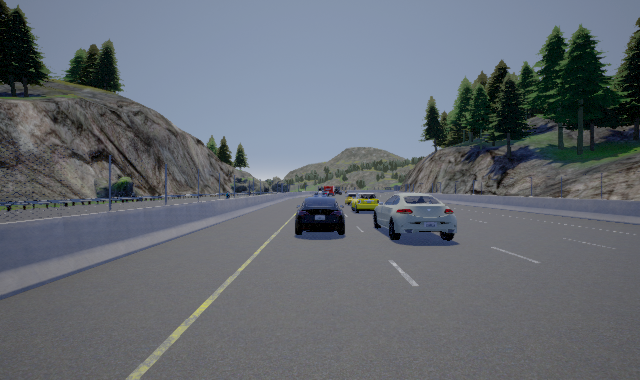vehicle: (374, 193, 457, 247), (295, 186, 345, 235), (345, 191, 381, 215)
